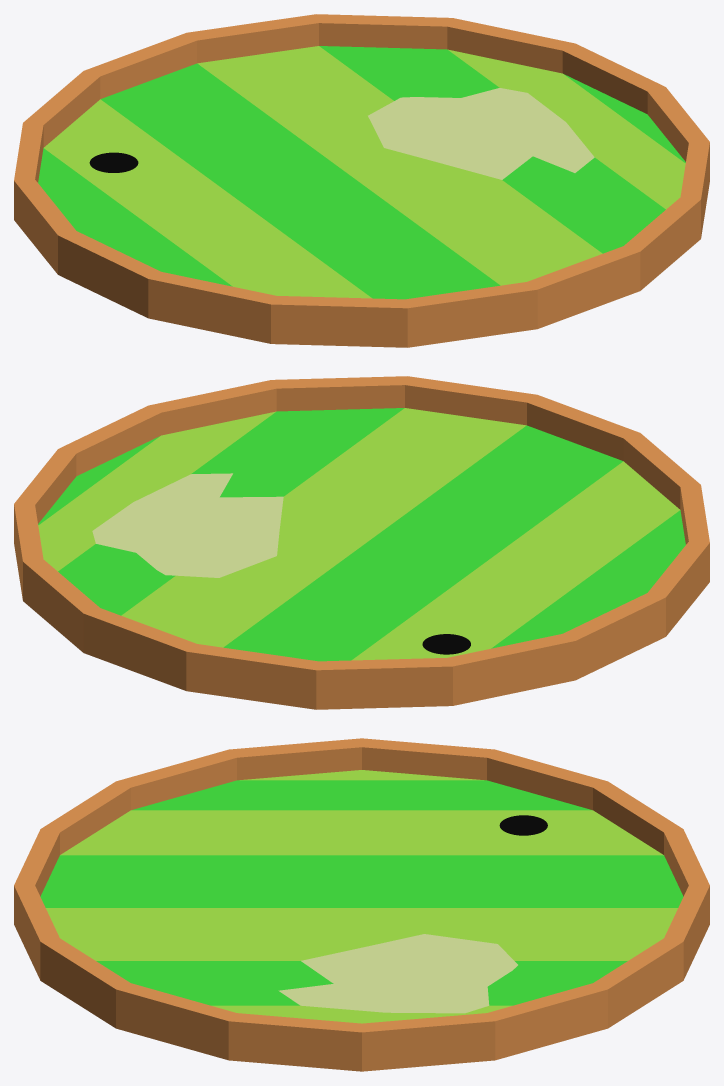
Rendered from Golf.fbx.
The picture shows the model from 3 angles, top to bottom: view 1: azimuth 30°, elevation 25°; view 2: azimuth 150°, elevation 25°; view 3: azimuth 270°, elevation 25°; orthographic projection.
Parts seen in each view (by area): view 1: Cylinder; view 2: Cylinder; view 3: Cylinder.
Boxes of the visible parts, box(x1,y1,x2,y2) form: Cylinder: box(14, 14, 709, 347); Cylinder: box(14, 376, 709, 709); Cylinder: box(14, 738, 709, 1071).
Bounding box in the file's own units: 1828 × 114 × 1828.
